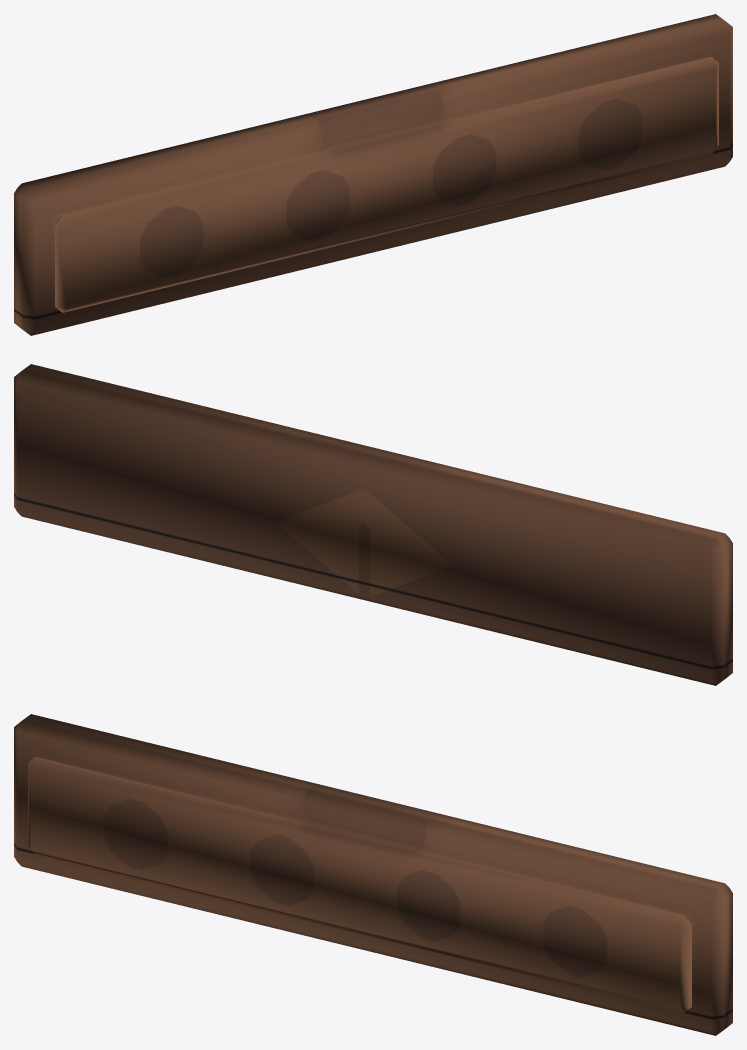
Rendered from Remache_PunoIzq_Oxido.fbx.
3 views of the same model, one above another, from view 1: azimuth 30°, elevation 25°; view 2: azimuth 150°, elevation 25°; view 3: azimuth 330°, elevation 25° (orthographic).
Visible parts, largest first — view 1: Remache_PunoIzq_Oxido; view 2: Remache_PunoIzq_Oxido; view 3: Remache_PunoIzq_Oxido.
Part boxes in pixels (box(x1,y1,x2,y2)): Remache_PunoIzq_Oxido: box(14, 14, 732, 335); Remache_PunoIzq_Oxido: box(14, 364, 732, 685); Remache_PunoIzq_Oxido: box(14, 714, 732, 1035).
Bounding box in the file's own units: 2 × 0.3929 × 0.1321.
